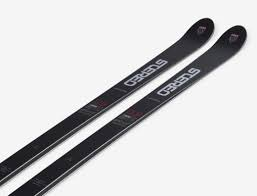skis: (1, 19, 248, 196)
